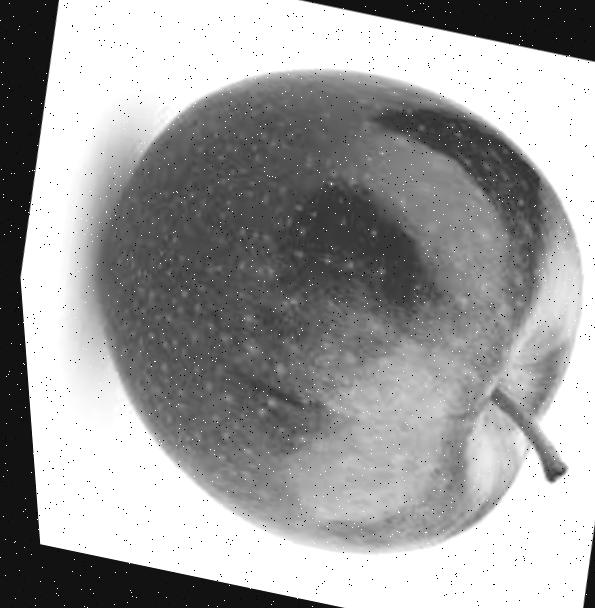HEALTHY: (20, 2, 595, 597)
